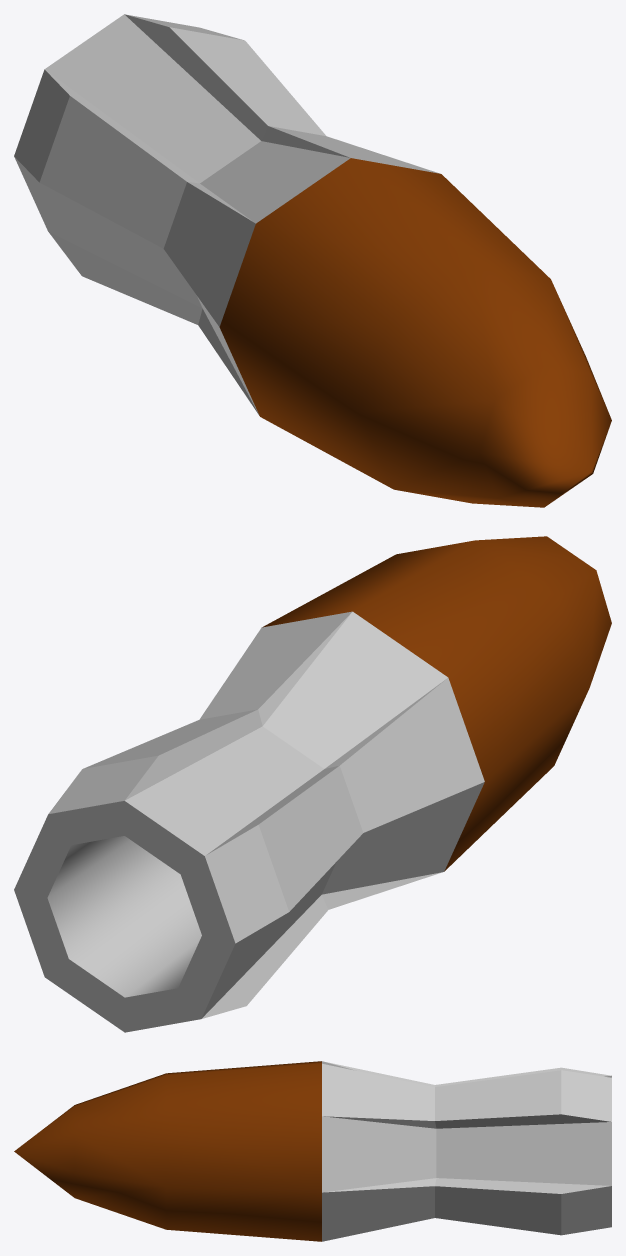
Rendered from esxolus_assault_fighter_missile_model.fbx.
The picture shows the model from 3 angles, top to bottom: view 1: azimuth 30°, elevation 25°; view 2: azimuth 150°, elevation 25°; view 3: azimuth 270°, elevation 25°; orthographic projection. The views are drawn at different scales.
Visible parts, largest first — view 1: pasted__pCube3; view 2: pasted__pCube3; view 3: pasted__pCube3.
Boxes of the visible parts, box(x1,y1,x2,y2) form: pasted__pCube3: box(14, 14, 611, 507); pasted__pCube3: box(14, 536, 611, 1032); pasted__pCube3: box(14, 1061, 611, 1241).
Bounding box in the file's own units: 0.9006 × 0.9006 × 2.78.
